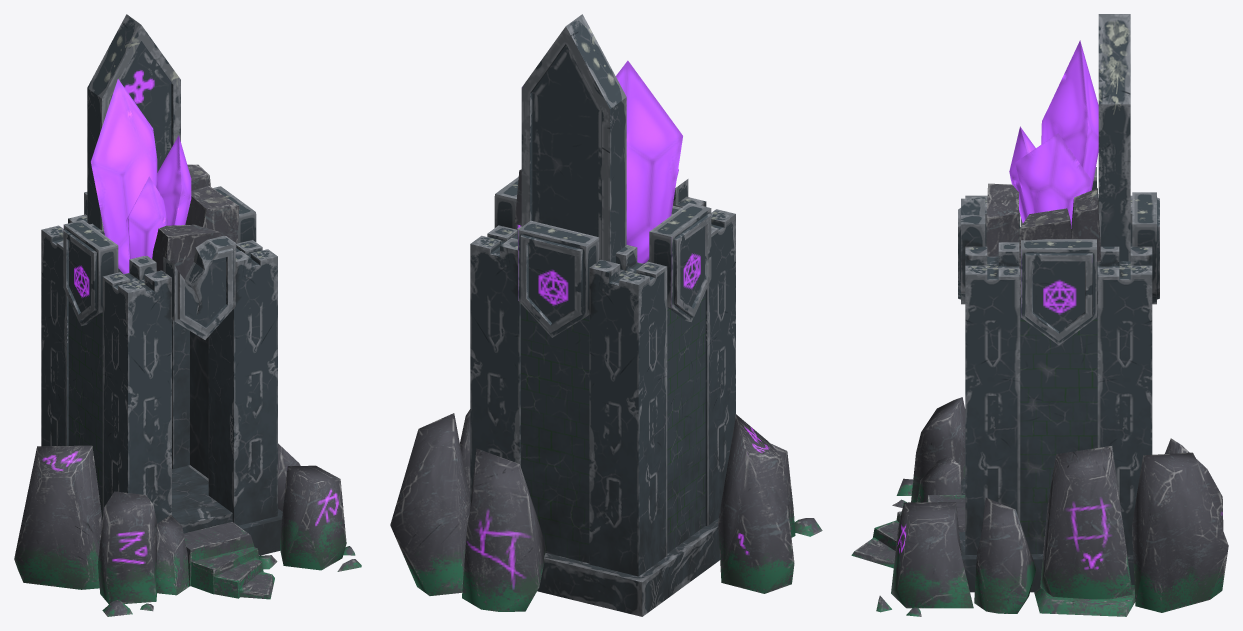
File: magic_tower.glb
3 views of the same model, side by side, from view 1: azimuth 30°, elevation 25°; view 2: azimuth 150°, elevation 25°; view 3: azimuth 270°, elevation 25° (orthographic). The views are drawn at different scales.
Parts seen in each view (by area): view 1: Columns_LP, Rocks_1_LP, Rocks_2_LP, Wall_high_LP, Crystal_1_LP, Stair_LP, Romb_broken_LP, Wall_outer_1_LP.002, Rocks_above_LP, Romb_1_LP.002, Floor_LP, Wall_inner_1_LP (+4 smaller); view 2: Columns_LP, Wall_high_LP, Wall_outer_1_LP.001, Rocks_2_LP, Rocks_1_LP, Rocks_3_LP, Wall_outer_1_LP.002, Crystal_1_LP, Platform_LP, Romb_1_LP.001, Romb_1_LP.002, Romb_1_LP; view 3: Columns_LP, Rocks_2_LP, Rocks_3_LP, Wall_outer_1_LP, Rocks_1_LP, Wall_high_LP, Romb_1_LP, Rocks_above_LP, Crystal_1_LP, Crystal_2_LP, Romb_1_LP.001, Stair_LP (+3 smaller).
Boxes of the visible parts, x1,y1,x2,y2 form: Columns_LP: [41, 214, 277, 525]; Rocks_1_LP: [14, 443, 361, 616]; Rocks_2_LP: [97, 465, 346, 604]; Wall_high_LP: [87, 14, 180, 230]; Crystal_1_LP: [91, 79, 157, 273]; Stair_LP: [183, 522, 274, 599]; Romb_broken_LP: [163, 236, 235, 339]; Wall_outer_1_LP.002: [68, 300, 102, 519]; Rocks_above_LP: [152, 164, 239, 278]; Romb_1_LP.002: [63, 220, 118, 325]; Floor_LP: [172, 465, 232, 533]; Wall_inner_1_LP: [190, 331, 208, 478]; Columns_LP: [470, 196, 735, 576]; Wall_high_LP: [521, 14, 626, 263]; Wall_outer_1_LP.001: [520, 303, 589, 563]; Rocks_2_LP: [460, 409, 795, 611]; Rocks_1_LP: [718, 414, 822, 593]; Rocks_3_LP: [390, 413, 470, 595]; Wall_outer_1_LP.002: [667, 292, 705, 553]; Crystal_1_LP: [616, 60, 682, 263]; Platform_LP: [537, 518, 719, 616]; Romb_1_LP.001: [518, 220, 599, 337]; Romb_1_LP.002: [649, 202, 711, 321]; Romb_1_LP: [494, 177, 521, 229]; Columns_LP: [965, 195, 1152, 554]; Rocks_2_LP: [891, 397, 1223, 608]; Rocks_3_LP: [1132, 452, 1228, 612]; Wall_outer_1_LP: [1020, 304, 1097, 553]; Rocks_1_LP: [876, 456, 1135, 616]; Wall_high_LP: [1098, 14, 1130, 261]; Romb_1_LP: [1021, 239, 1096, 345]; Rocks_above_LP: [986, 183, 1100, 297]; Crystal_1_LP: [1041, 40, 1098, 191]; Crystal_2_LP: [1015, 133, 1091, 228]; Romb_1_LP.001: [1132, 192, 1159, 304]; Stair_LP: [851, 495, 965, 568].
Size of the model in its own units: 5.18 by 8.48 by 5.41.
1 material, 1 textured.
